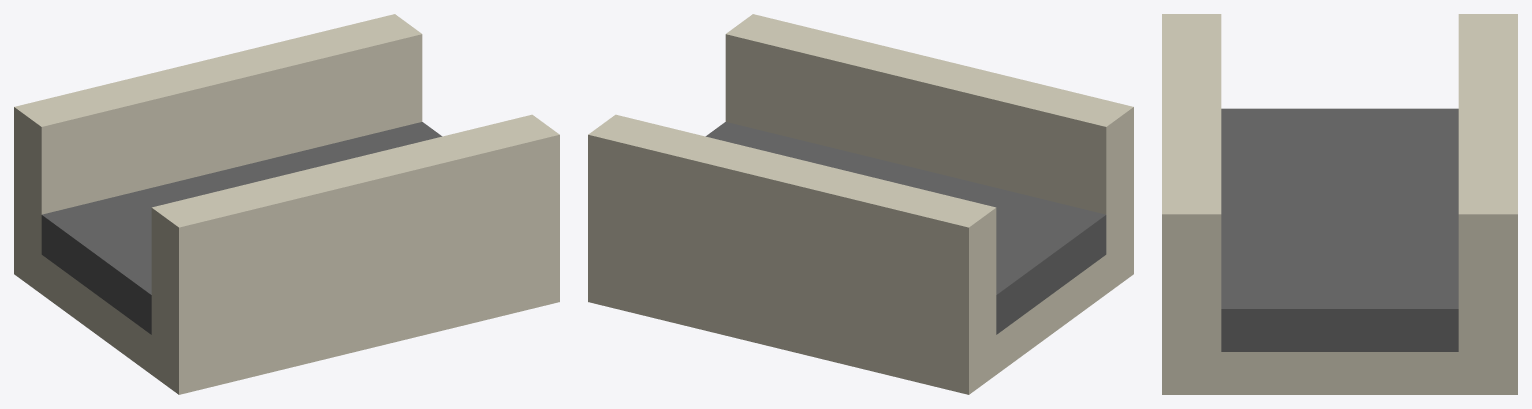
Rendered from tile148.fbx.
The picture shows the model from 3 angles, left to right: view 1: azimuth 30°, elevation 25°; view 2: azimuth 150°, elevation 25°; view 3: azimuth 270°, elevation 25°; orthographic projection. The views are drawn at different scales.
Visible parts, largest first — view 1: tile148; view 2: tile148; view 3: tile148.
Part boxes in pixels (bbox=[...]): tile148: bbox=[14, 14, 559, 394]; tile148: bbox=[588, 14, 1133, 394]; tile148: bbox=[1162, 14, 1517, 394].
Size of the model in its own units: 10 by 4.2 by 7.5.
